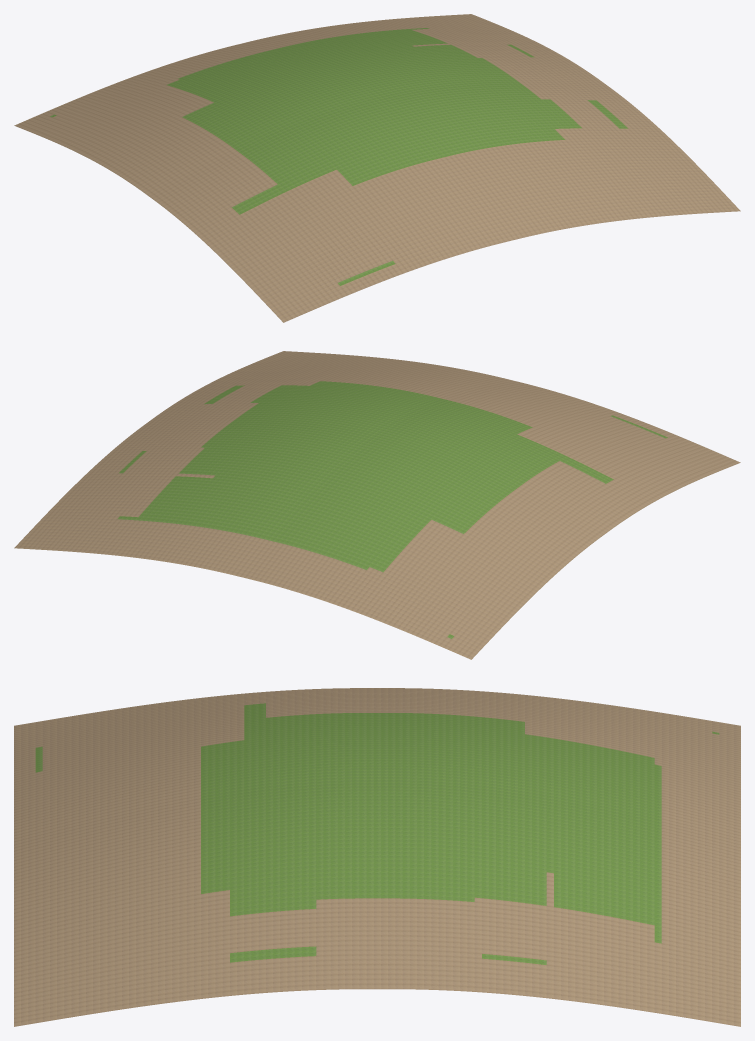
File: OPMap.gltf
3 renders of one model, top to bottom at view 1: azimuth 30°, elevation 25°; view 2: azimuth 150°, elevation 25°; view 3: azimuth 270°, elevation 25°, orthographic. The views are drawn at different scales.
Visible parts, largest first — view 1: map; view 2: map; view 3: map.
Part boxes in pixels (bbox=[...]): map: bbox=[14, 14, 740, 322]; map: bbox=[14, 351, 740, 659]; map: bbox=[14, 688, 740, 1026].
Size of the model in its own units: 198 by 29.29 by 202.
2 materials, 2 textured.
